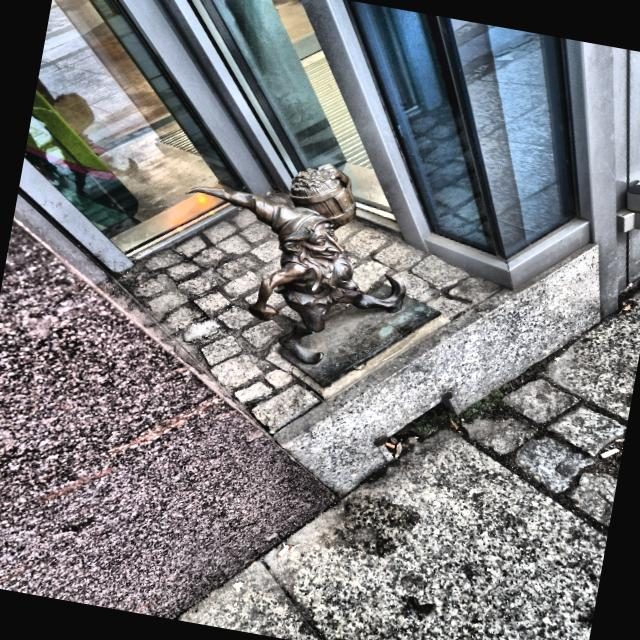Leprykonus: (147, 132, 440, 391)
